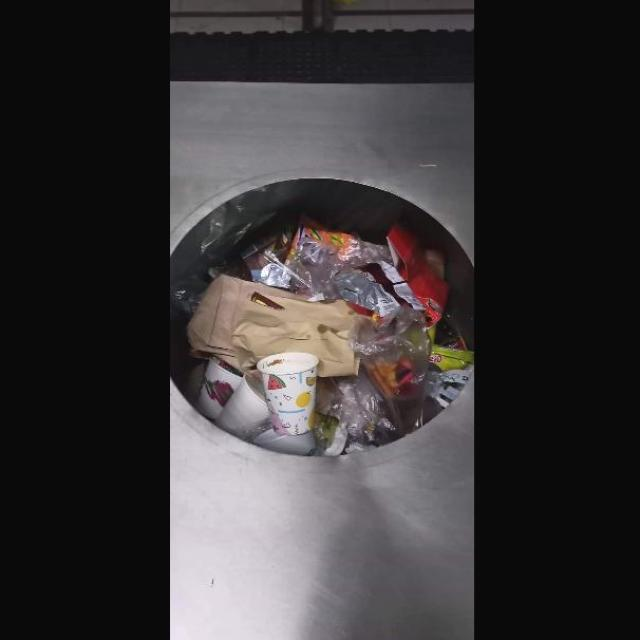bao_bi_thuc_pham: (386, 225, 449, 330), (333, 261, 427, 326), (428, 327, 474, 374)
giay: (187, 275, 361, 377)
tui_ni_long: (327, 307, 443, 440)
